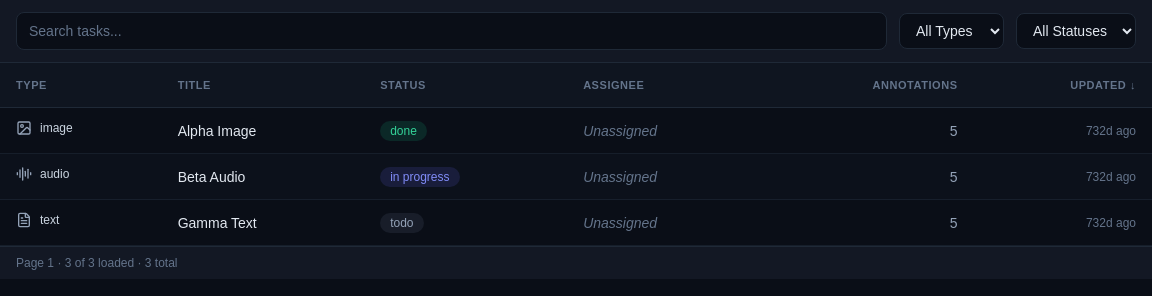
Test: TaskTable interaction › search input filters visible rows
In the field labelled "Search tasks": (452, 31) x1=16 y1=12 x2=887 y2=50, type "Alpha"
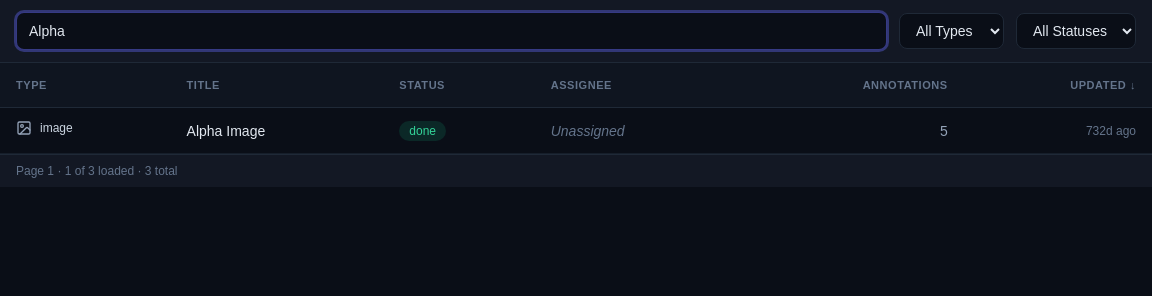
Expected: the number of rows is 2, x1=0 y1=63 x2=1151 y2=108; x1=0 y1=108 x2=1151 y2=154
Expected: the text "Beta Audio" is gone
Expected: the text "Gamma Text" is gone
